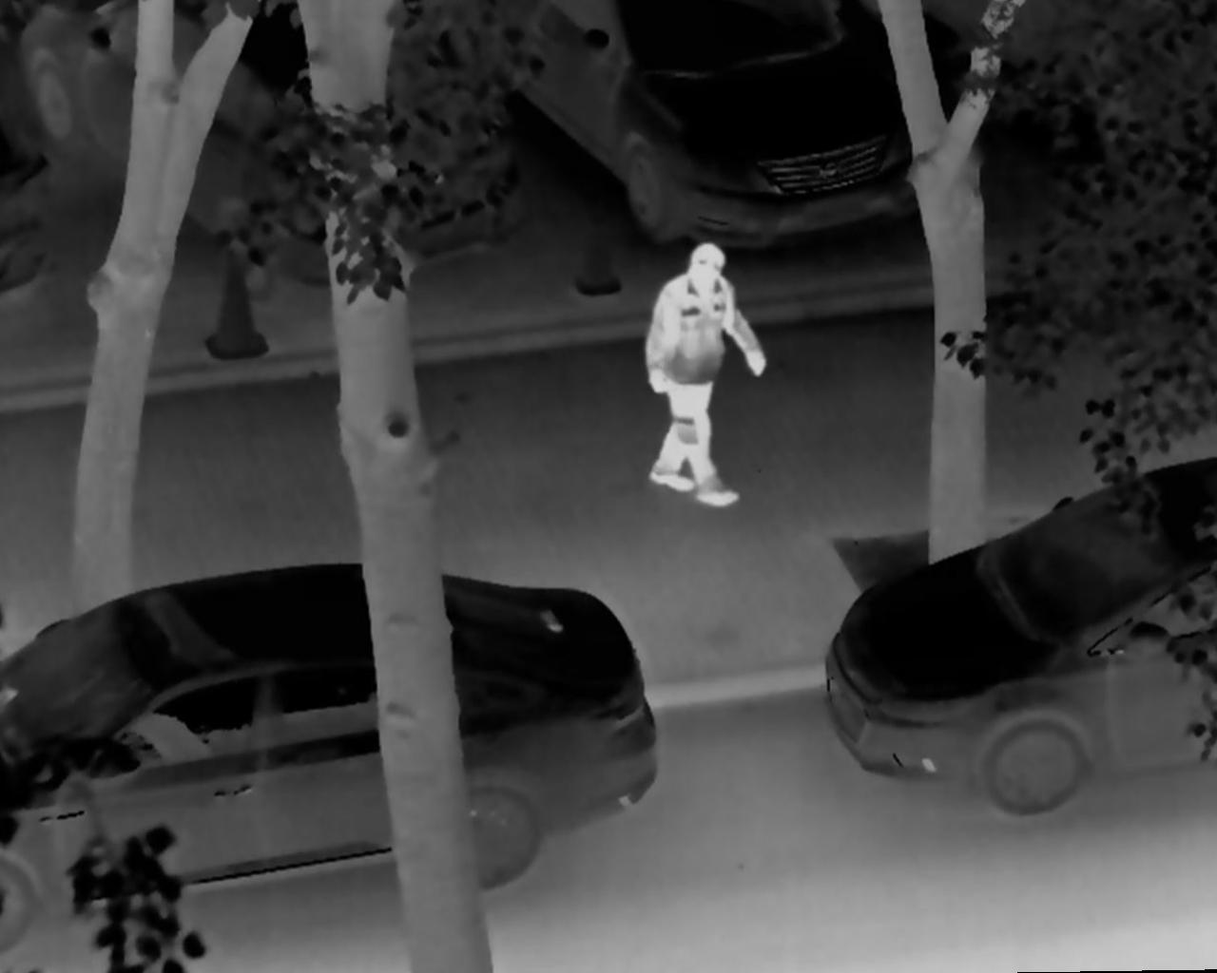person: (632, 241, 768, 509)
